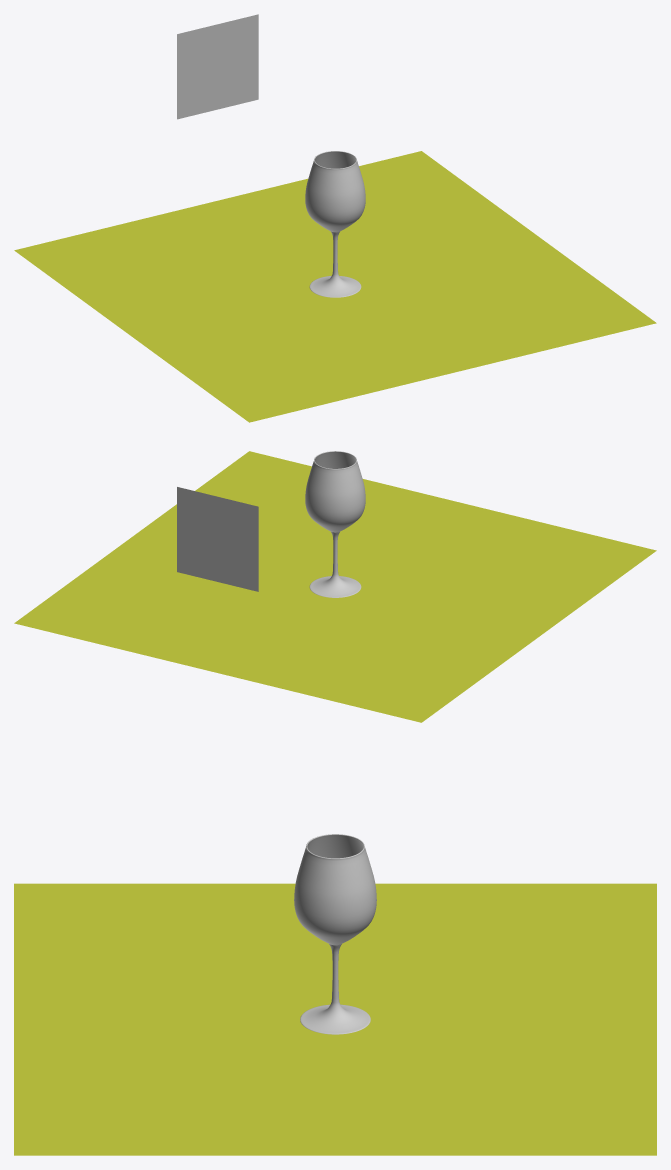
File: wineglass.obj
The picture shows the model from 3 angles, top to bottom: view 1: azimuth 30°, elevation 25°; view 2: azimuth 150°, elevation 25°; view 3: azimuth 270°, elevation 25°; orthographic projection. The views are drawn at different scales.
Parts seen in each view (by area): view 1: Plane, Plane.001, Cylinder; view 2: Plane, Plane.001, Cylinder; view 3: Plane, Cylinder.
Part boxes in pixels (<box>): Plane: <box>14,151,656,422</box>; Plane.001: <box>177,14,258,119</box>; Cylinder: <box>305,151,365,297</box>; Plane: <box>14,451,656,722</box>; Plane.001: <box>177,487,258,591</box>; Cylinder: <box>305,451,365,597</box>; Plane: <box>14,883,656,1155</box>; Cylinder: <box>294,834,376,1034</box>.
Bounding box in the file's own units: 10 × 4.16 × 10.
